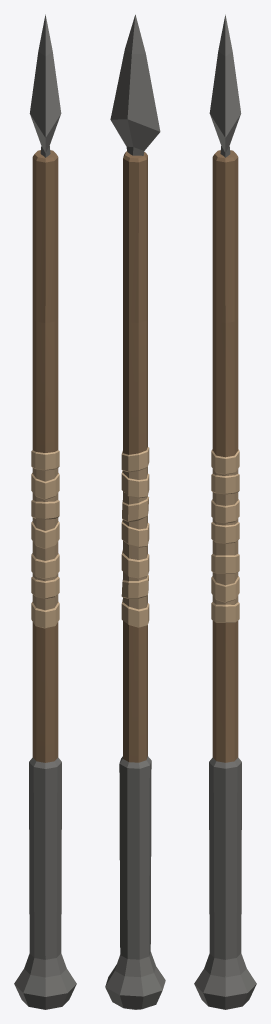
File: SM_pwe_egypt_javelin_01a.fbx
The picture shows the model from 3 angles, left to right: view 1: azimuth 90°, elevation 25°; view 2: azimuth 150°, elevation 25°; view 3: azimuth 270°, elevation 25°; orthographic projection.
Visible parts, largest first — view 1: SM_pwe_egypt_javelin_01a; view 2: SM_pwe_egypt_javelin_01a; view 3: SM_pwe_egypt_javelin_01a.
Boxes of the visible parts, box(x1,y1,x2,y2) form: SM_pwe_egypt_javelin_01a: box(14, 14, 76, 1009); SM_pwe_egypt_javelin_01a: box(105, 14, 165, 1009); SM_pwe_egypt_javelin_01a: box(194, 14, 256, 1009).
Size of the model in its own units: 11.08 by 194 by 11.08.
